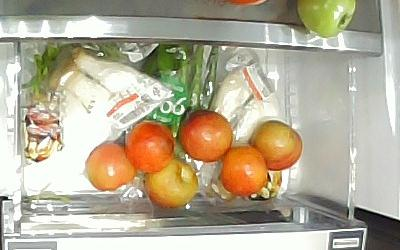prune: (176, 108, 233, 162), (142, 155, 198, 209), (247, 118, 303, 171), (123, 119, 175, 174), (84, 140, 136, 191), (219, 144, 267, 196)
